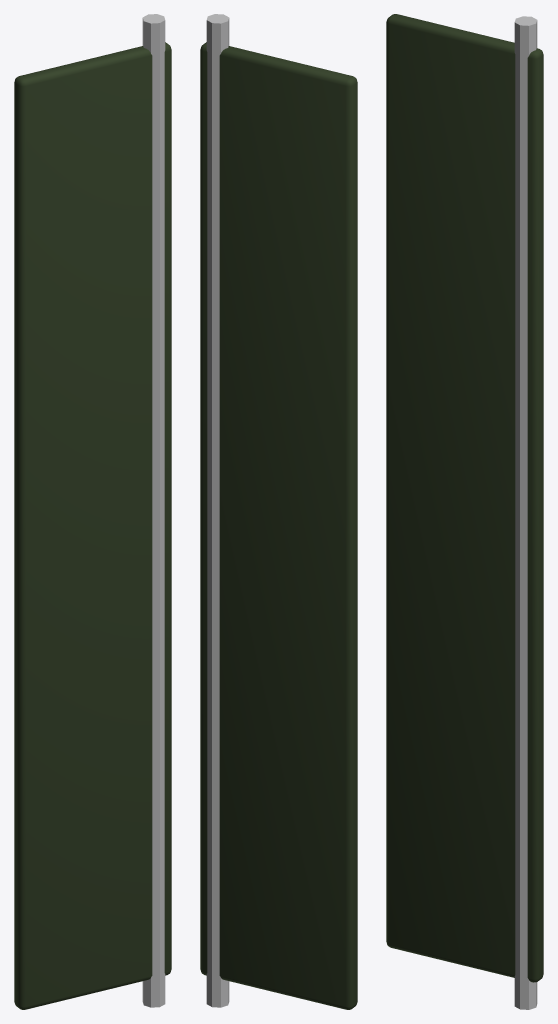
File: rudder_right.glb
3 renders of one model, left to right at view 1: azimuth 30°, elevation 25°; view 2: azimuth 150°, elevation 25°; view 3: azimuth 330°, elevation 25°, orthographic.
Visible parts, largest first — view 1: rudder_right; view 2: rudder_right; view 3: rudder_right.
Part boxes in pixels (x1,y1,x2,y2): rudder_right: (14, 14, 171, 1009); rudder_right: (200, 14, 357, 1009); rudder_right: (386, 14, 543, 1009).
Size of the model in its own units: 0.12 by 0.74 by 0.016.
